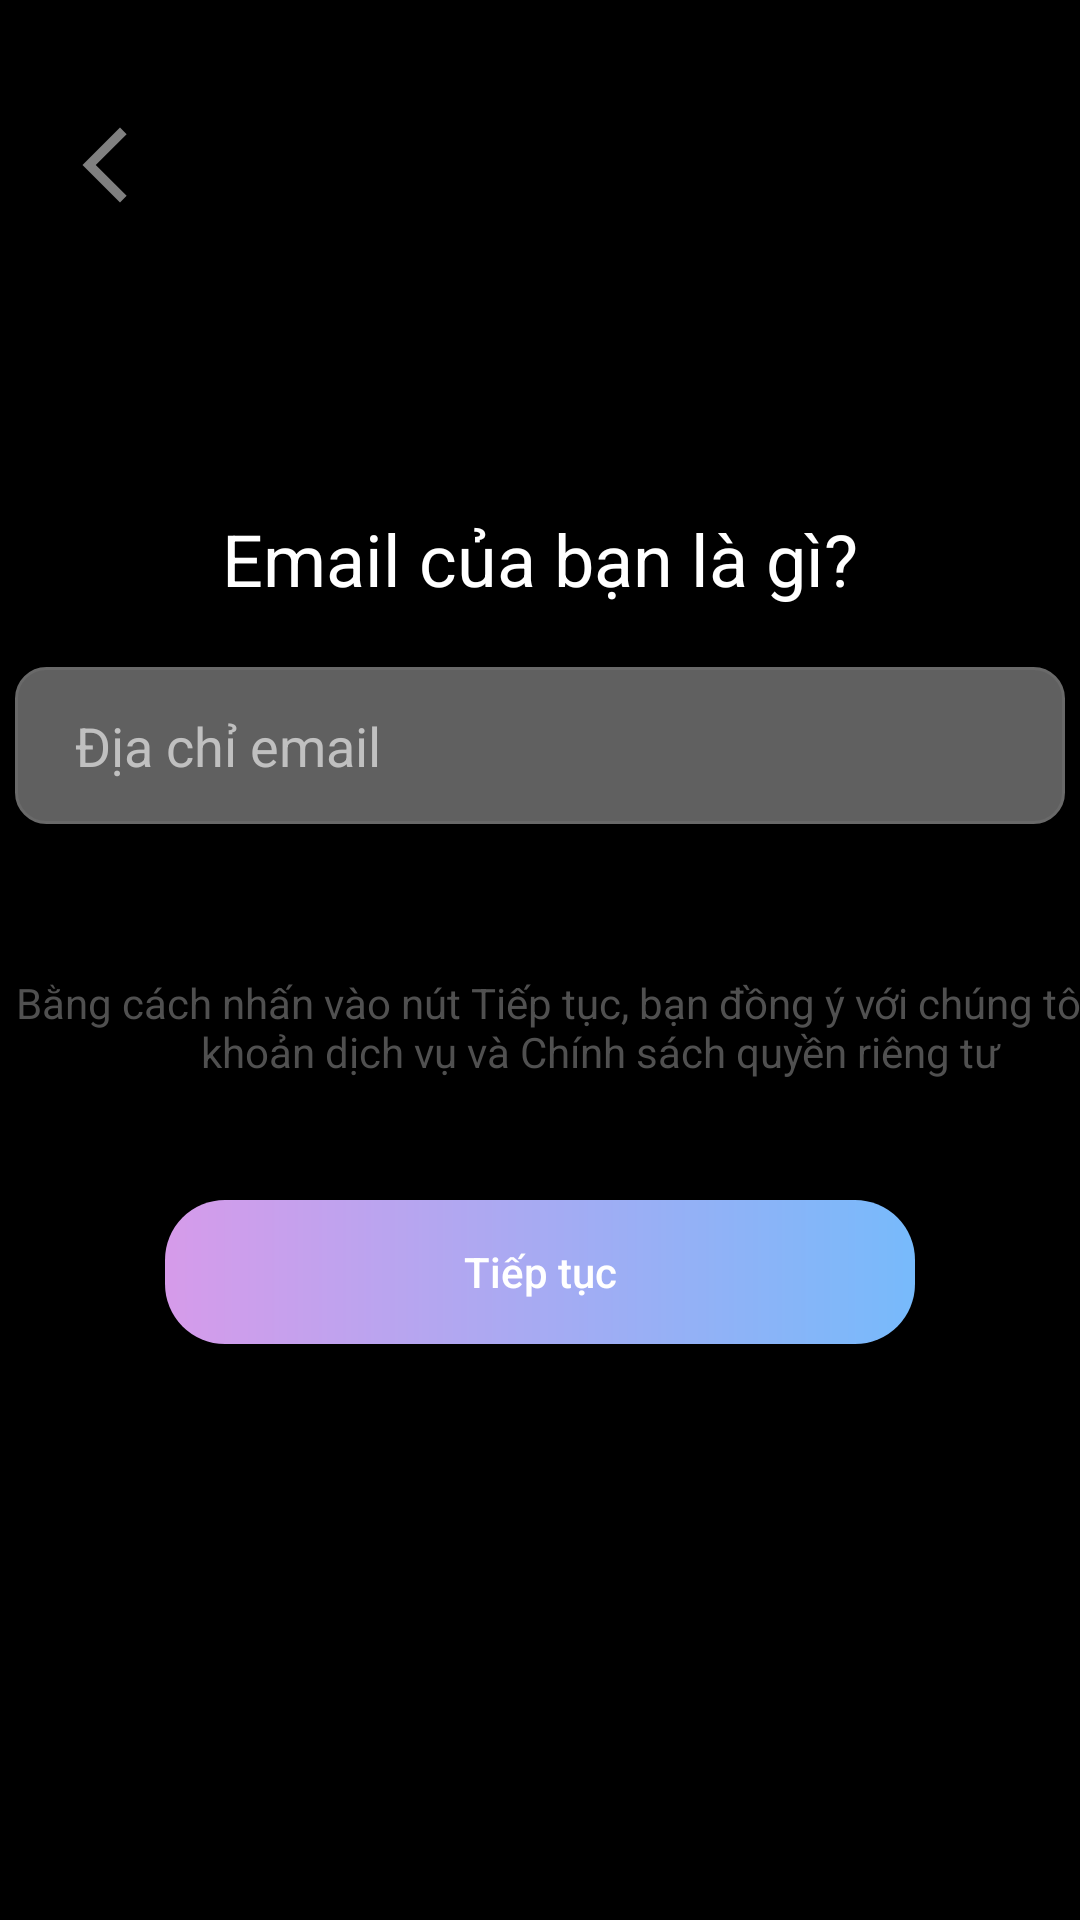

Icons on this 1080 x 1920 Android screen, each with its box as (x1, y1, x2, y2):
back: (83, 128, 127, 202)
